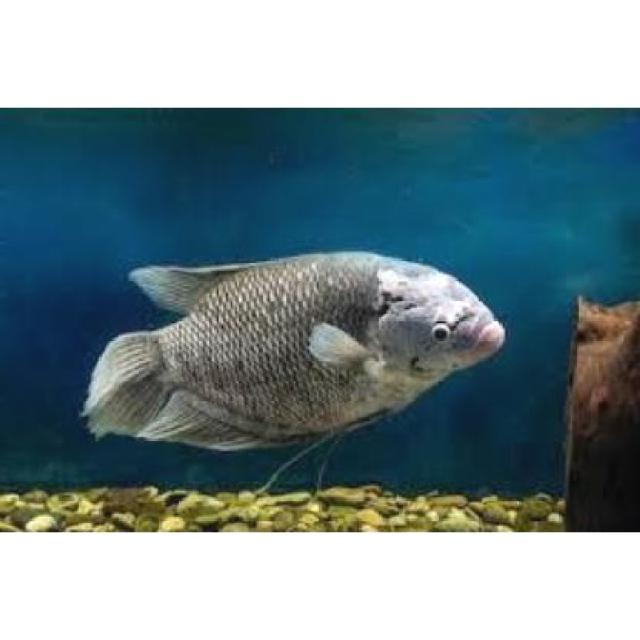gurame: (80, 250, 508, 473)
